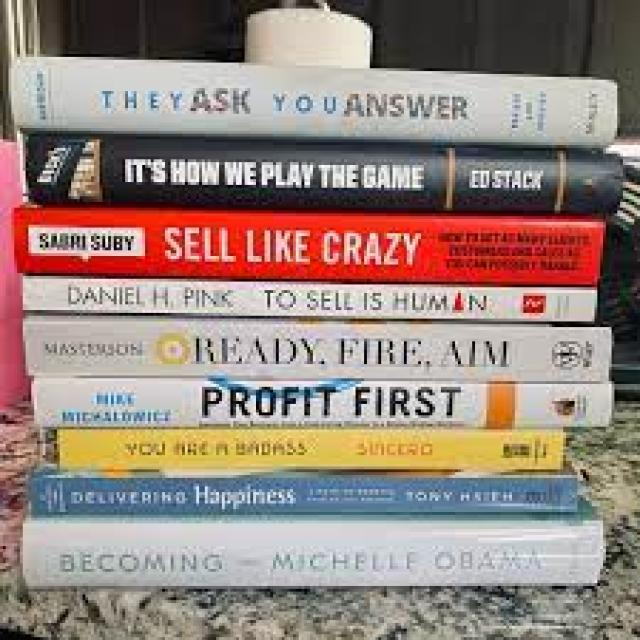book-spines: (8, 59, 617, 147), (22, 132, 626, 215), (14, 208, 605, 286), (24, 317, 611, 382), (22, 522, 604, 585), (19, 274, 597, 322), (33, 380, 613, 426), (26, 475, 579, 515), (57, 430, 561, 469)
